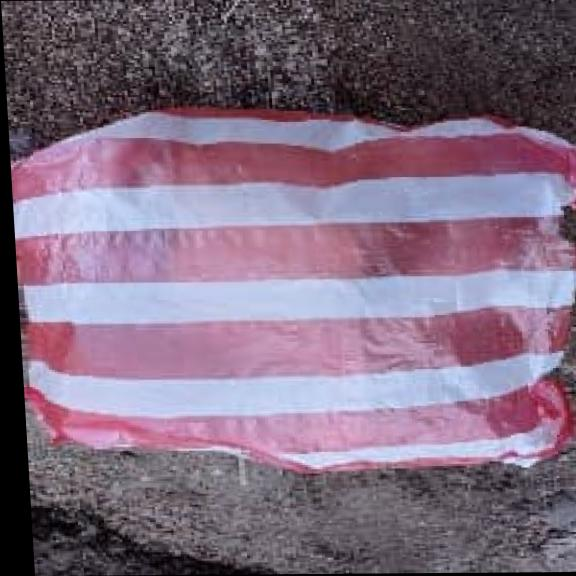Plastik: (13, 111, 576, 472)
